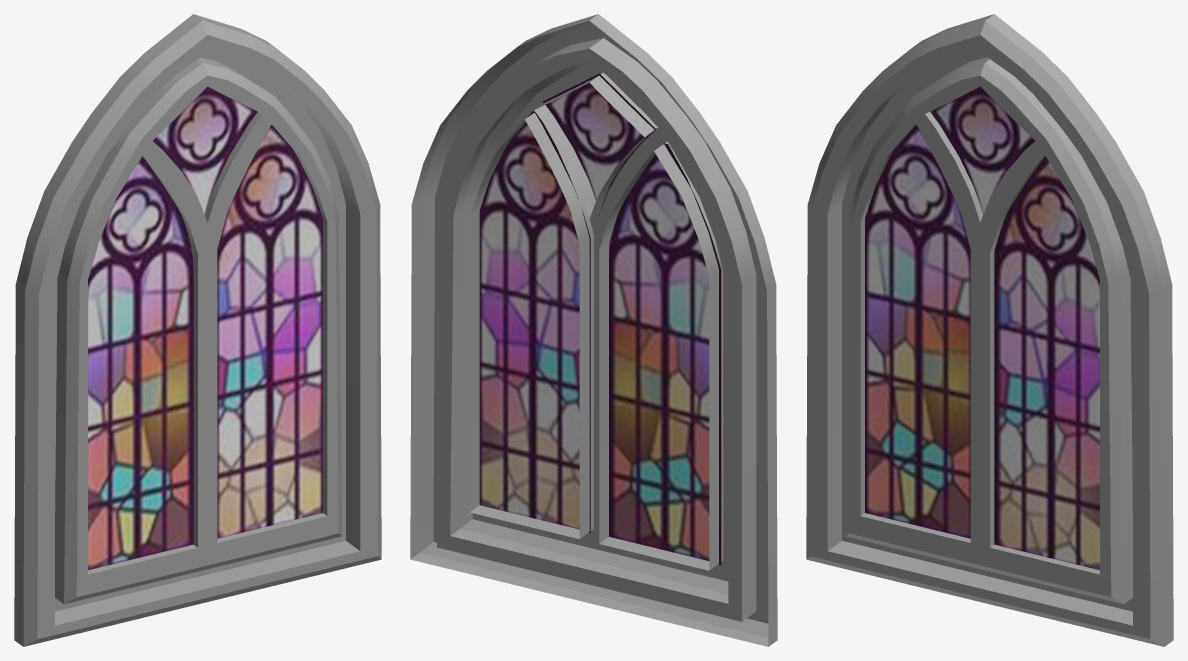
File: churchwindow.fbx
3 views of the same model, side by side, from view 1: azimuth 30°, elevation 25°; view 2: azimuth 150°, elevation 25°; view 3: azimuth 330°, elevation 25° (orthographic).
Visible parts, largest first — view 1: window1, window_glass; view 2: window1, window_glass; view 3: window1, window_glass.
Boxes of the visible parts, x1,y1,x2,y2 form: window1: (14,14,381,646); window_glass: (88,86,322,570); window1: (410,14,777,646); window_glass: (479,73,721,565); window1: (806,14,1173,646); window_glass: (865,86,1099,570).
Bounding box in the file's own units: 7.23 × 11.24 × 0.5.
Materials: 2 (1 with a texture image).
